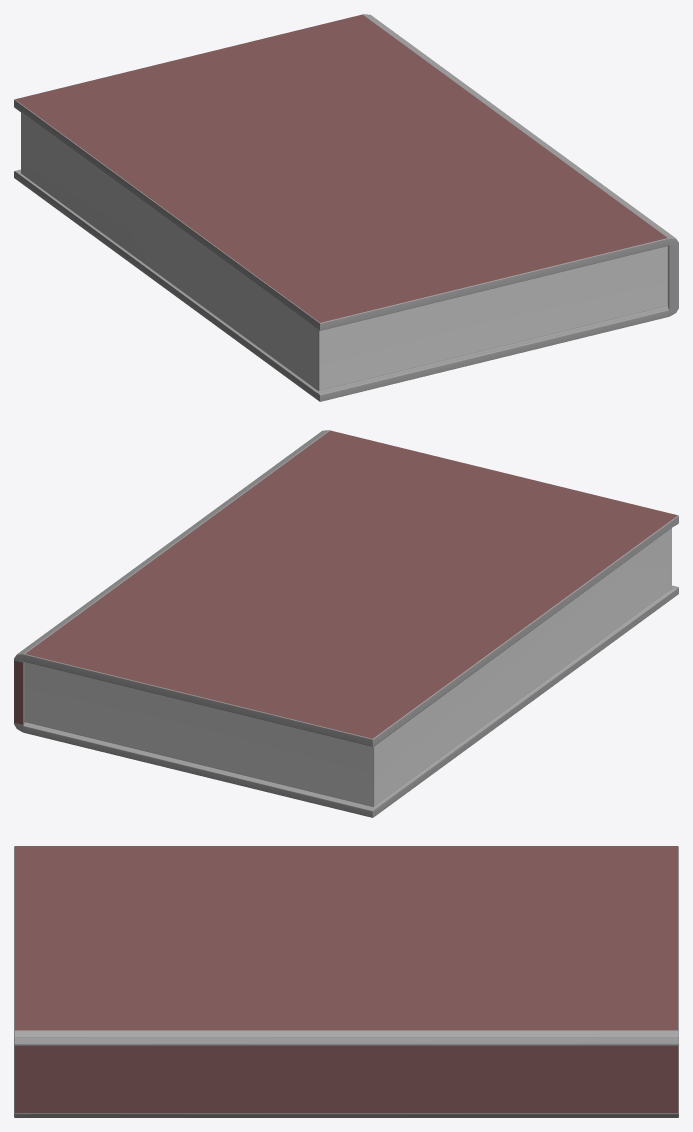
File: Buch2.fbx
The picture shows the model from 3 angles, top to bottom: view 1: azimuth 30°, elevation 25°; view 2: azimuth 150°, elevation 25°; view 3: azimuth 270°, elevation 25°; orthographic projection. The views are drawn at different scales.
Parts seen in each view (by area): view 1: pCube1; view 2: pCube1; view 3: pCube1.
Part boxes in pixels (bbox=[...]): pCube1: bbox=[14, 14, 678, 401]; pCube1: bbox=[14, 430, 678, 817]; pCube1: bbox=[14, 846, 678, 1117].
Size of the model in its own units: 2.62 by 0.5494 by 3.86.
